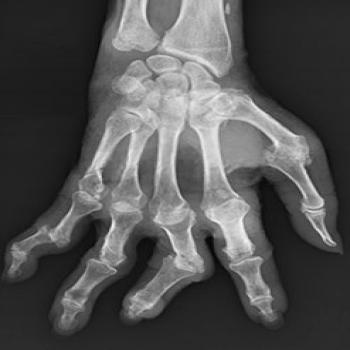Fracture: (161, 246, 204, 276), (34, 222, 71, 250)
